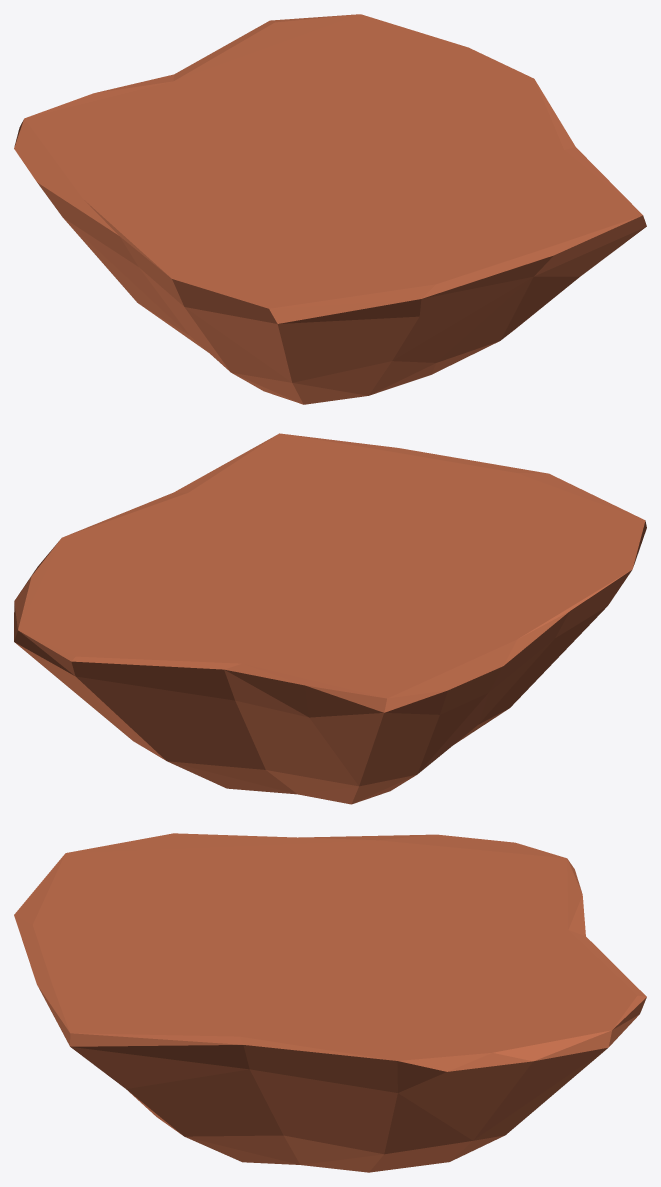
Rendered from 하늘섬밑.fbx.
3 views of the same model, one above another, from view 1: azimuth 30°, elevation 25°; view 2: azimuth 150°, elevation 25°; view 3: azimuth 270°, elevation 25° (orthographic). The views are drawn at different scales.
Visible parts, largest first — view 1: Cube.001; view 2: Cube.001; view 3: Cube.001.
Part boxes in pixels (x1,y1,x2,y2): Cube.001: [14, 14, 646, 404]; Cube.001: [14, 433, 646, 804]; Cube.001: [14, 833, 646, 1172].
Bounding box in the file's own units: 23714 × 8918 × 27804.
